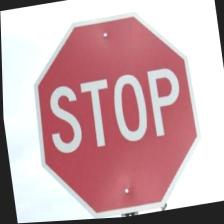Stop: (19, 3, 209, 223)
